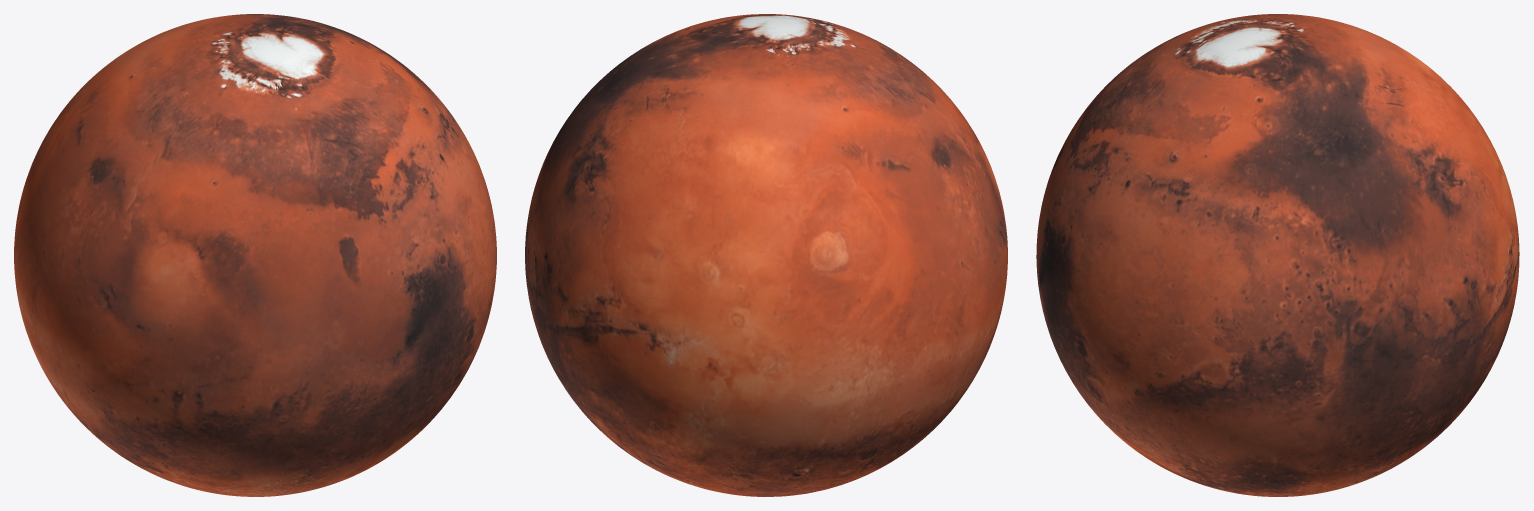
File: mars.glb
3 renders of one model, left to right at view 1: azimuth 30°, elevation 25°; view 2: azimuth 150°, elevation 25°; view 3: azimuth 270°, elevation 25°, orthographic.
Parts seen in each view (by area): view 1: mars_1; view 2: mars_1; view 3: mars_1.
Boxes of the visible parts, x1,y1,x2,y2 form: mars_1: (14, 14, 496, 496); mars_1: (525, 14, 1007, 496); mars_1: (1036, 14, 1519, 496).
Size of the model in its own units: 5.09 by 5.09 by 5.09.
Materials: 1 (1 with a texture image).
